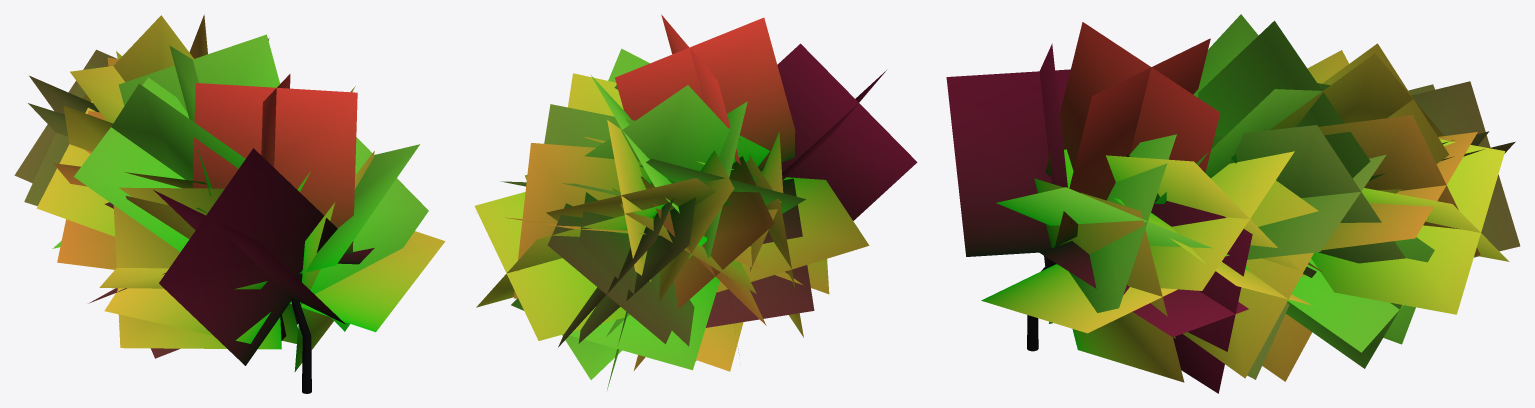
Rendered from Tree_7.fbx.
3 renders of one model, left to right at view 1: azimuth 30°, elevation 25°; view 2: azimuth 150°, elevation 25°; view 3: azimuth 270°, elevation 25°, orthographic. The views are drawn at different scales.
Visible parts, largest first — view 1: Tree_7; view 2: Tree_7; view 3: Tree_7.
Boxes of the visible parts, left/top/right/bottom form: Tree_7: left=14, top=14, right=445, bottom=393; Tree_7: left=474, top=14, right=917, bottom=390; Tree_7: left=946, top=14, right=1520, bottom=393.
Size of the model in its own units: 1073 by 959 by 1478.
